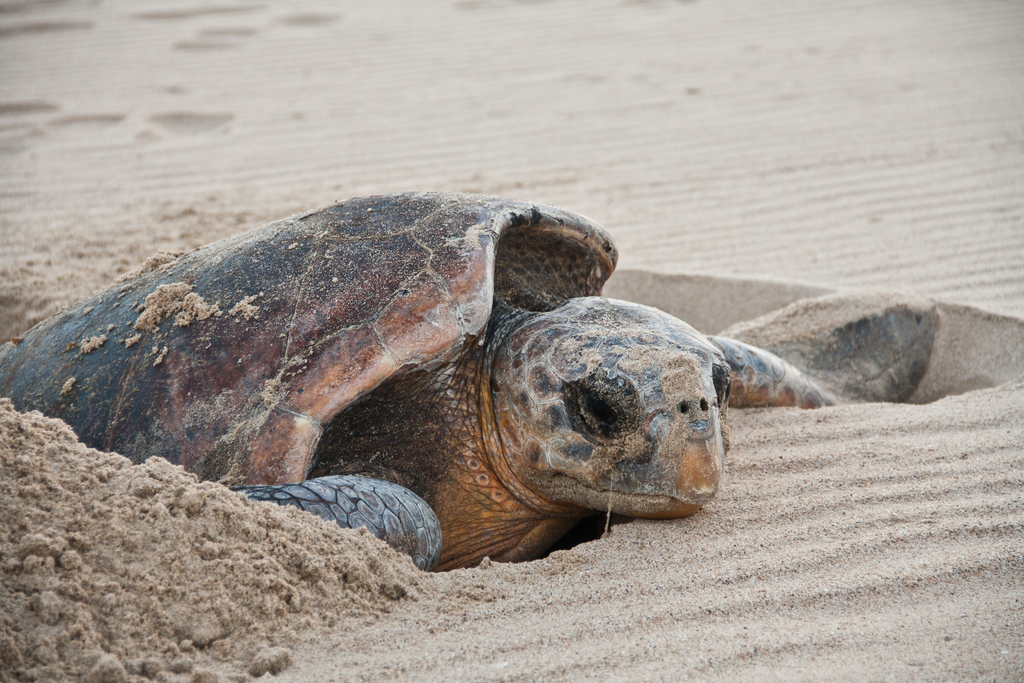Sea turtles: (0, 192, 942, 578)
